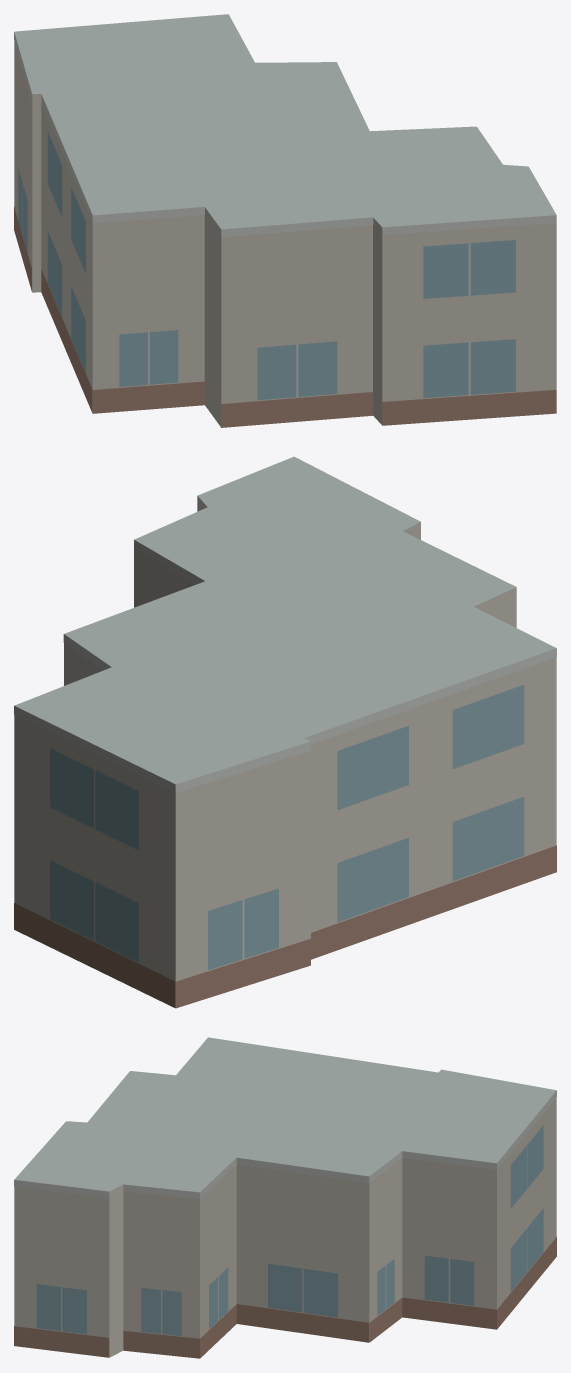
The model's file is survey-upis-32669404.glb.
The picture shows the model from 3 angles, top to bottom: view 1: azimuth 30°, elevation 25°; view 2: azimuth 150°, elevation 25°; view 3: azimuth 270°, elevation 25°; orthographic projection. The views are drawn at different scales.
Visible parts, largest first — view 1: survey-upis-32669404.tmp; view 2: survey-upis-32669404.tmp; view 3: survey-upis-32669404.tmp.
Part boxes in pixels (bbox=[...]): survey-upis-32669404.tmp: bbox=[14, 14, 556, 427]; survey-upis-32669404.tmp: bbox=[14, 456, 556, 1008]; survey-upis-32669404.tmp: bbox=[14, 1037, 556, 1358].
Bounding box in the file's own units: 12.22 × 6.1 × 18.06.
